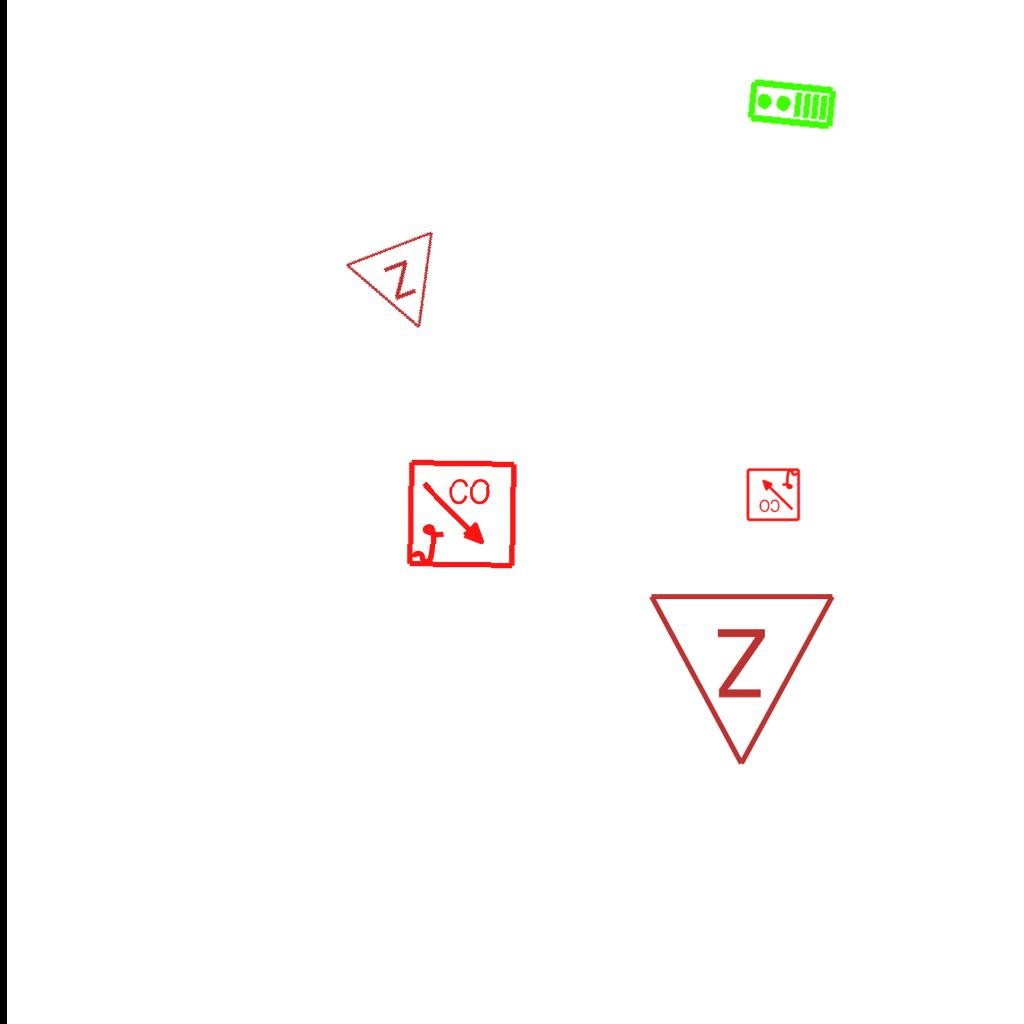Gegensprechanlage_mit_Video: (745, 77, 838, 133)
ROA_Rauchmelder_optisch_mit_Signalgeber_(Sockelsirene): (405, 458, 520, 573), (745, 466, 801, 522)
Zimmersignalleuchte: (646, 579, 842, 779), (341, 222, 469, 352)
